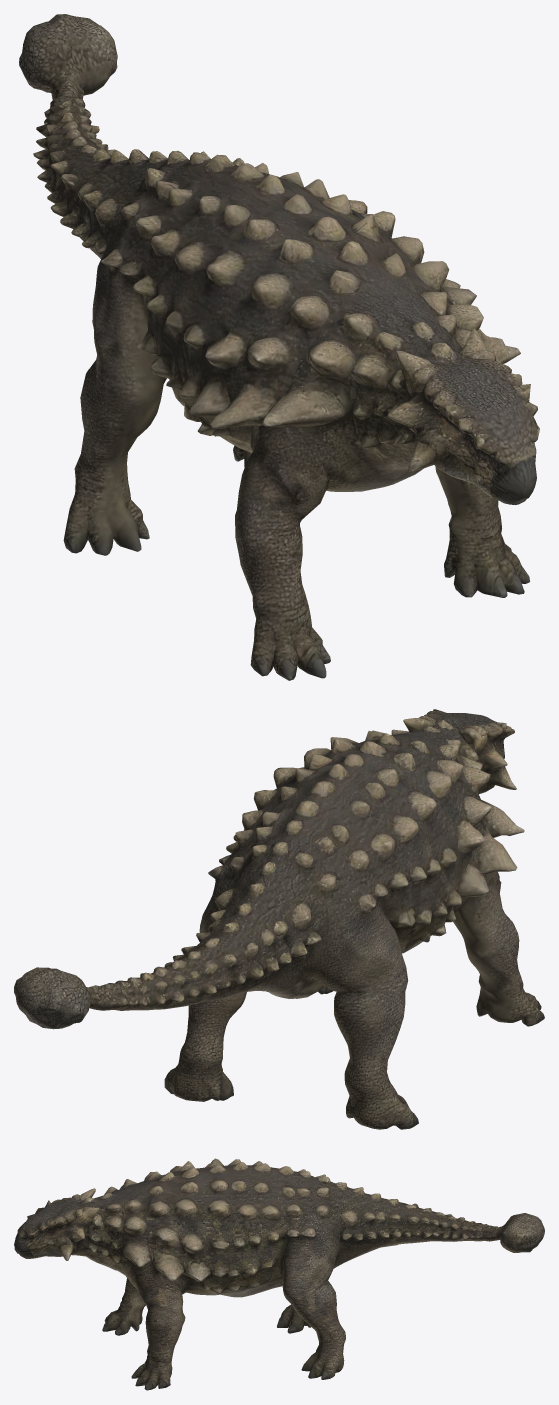
The model's file is ankylosaurus.glb.
The picture shows the model from 3 angles, top to bottom: view 1: azimuth 30°, elevation 25°; view 2: azimuth 150°, elevation 25°; view 3: azimuth 270°, elevation 25°; orthographic projection. The views are drawn at different scales.
Visible parts, largest first — view 1: dino; view 2: dino; view 3: dino.
Boxes of the visible parts, left/top/right/bottom form: dino: left=19, top=14, right=539, bottom=680; dino: left=14, top=709, right=544, bottom=1129; dino: left=14, top=1158, right=544, bottom=1390.
Bounding box in the file's own units: 2.42 × 2.77 × 7.
1 material, 1 textured.
